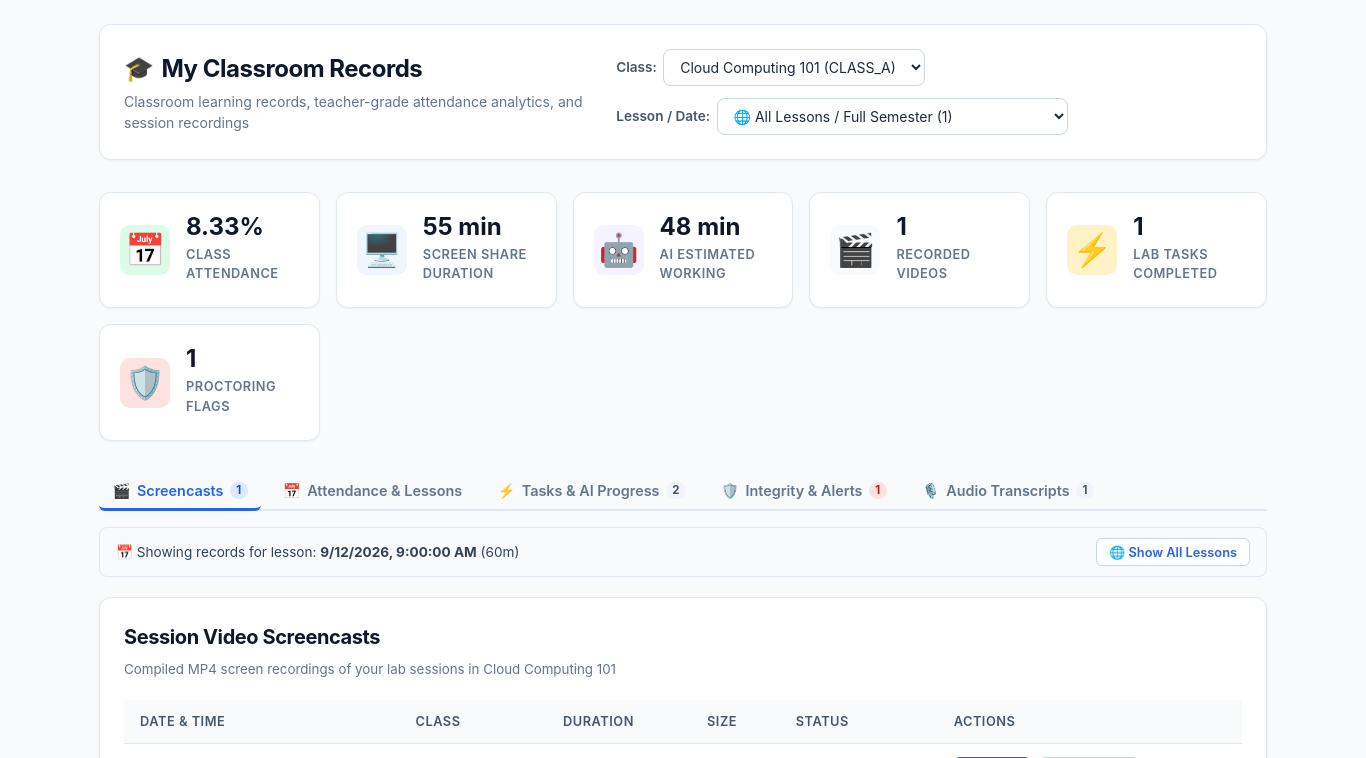
Test: StudentRecordsView Component › toggles between Per Lesson Breakdown and All Lessons Summary in Attendance tab
Click the tab "📅 Attendance & Lessons" at (372, 492), box 269,473 -> 476,511
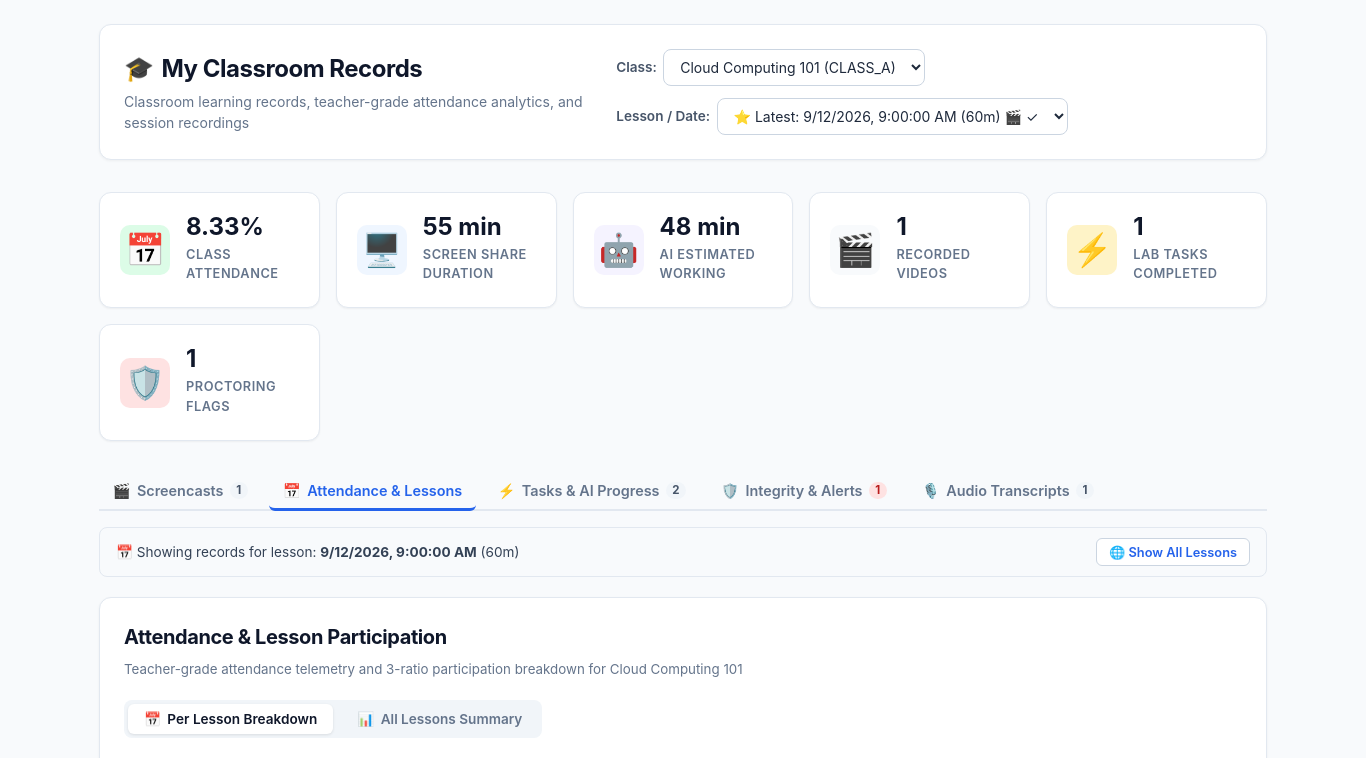
Expected: the button "📅 Per Lesson Breakdown" is shown, 128,704 -> 333,734
Expected: the button "📊 All Lessons Summary" is shown
# Switch to All Lessons Summary view
Click the button "📊 All Lessons Summary" at (440, 719), box 341,704 -> 538,734
(page scrolled)
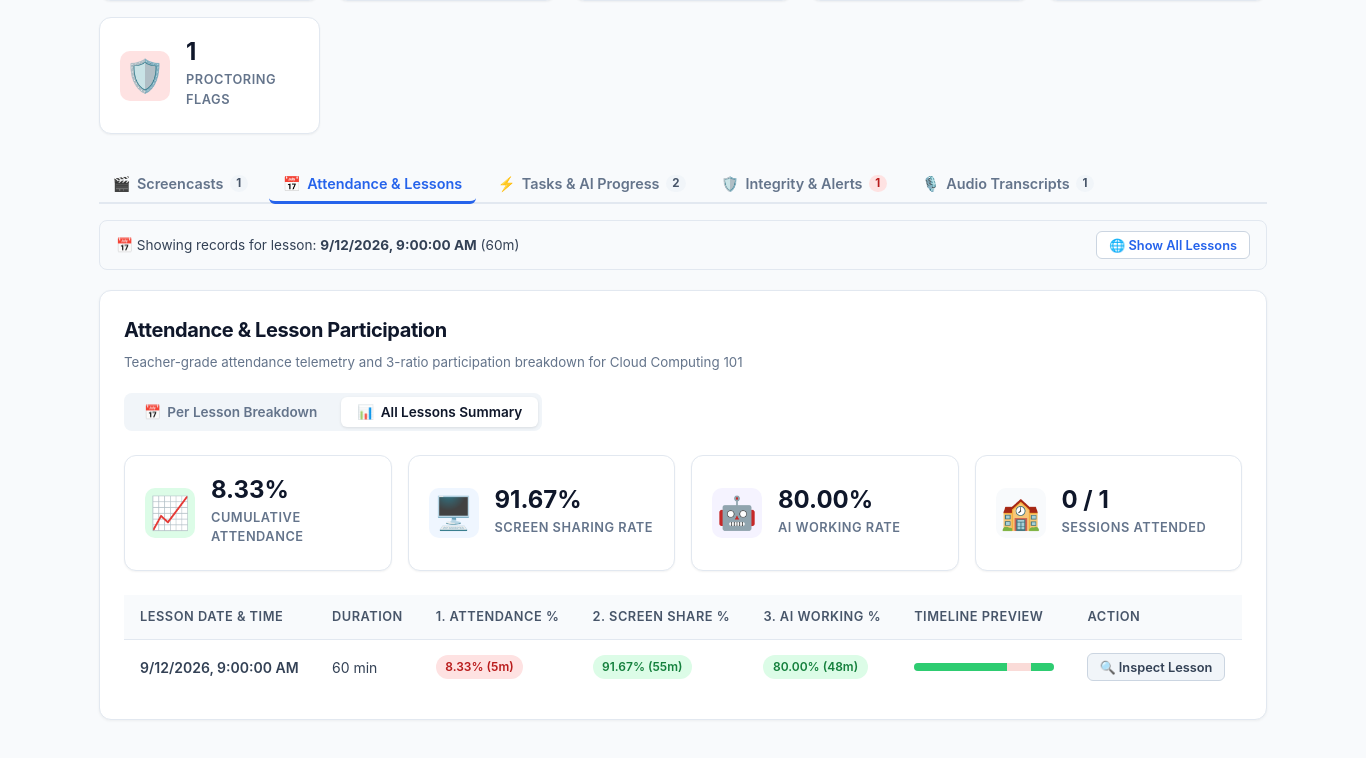
Expected: the text "Cumulative Attendance" is shown, 211,510 -> 304,544
Expected: the text "Screen Sharing Rate" is shown, 494,518 -> 653,537
Expected: the text "AI Working Rate" is shown, 778,518 -> 901,537
# Click Inspect Lesson to switch back to Per Lesson view
Click the button "🔍 Inspect Lesson" at (1156, 667), box 1087,653 -> 1225,681
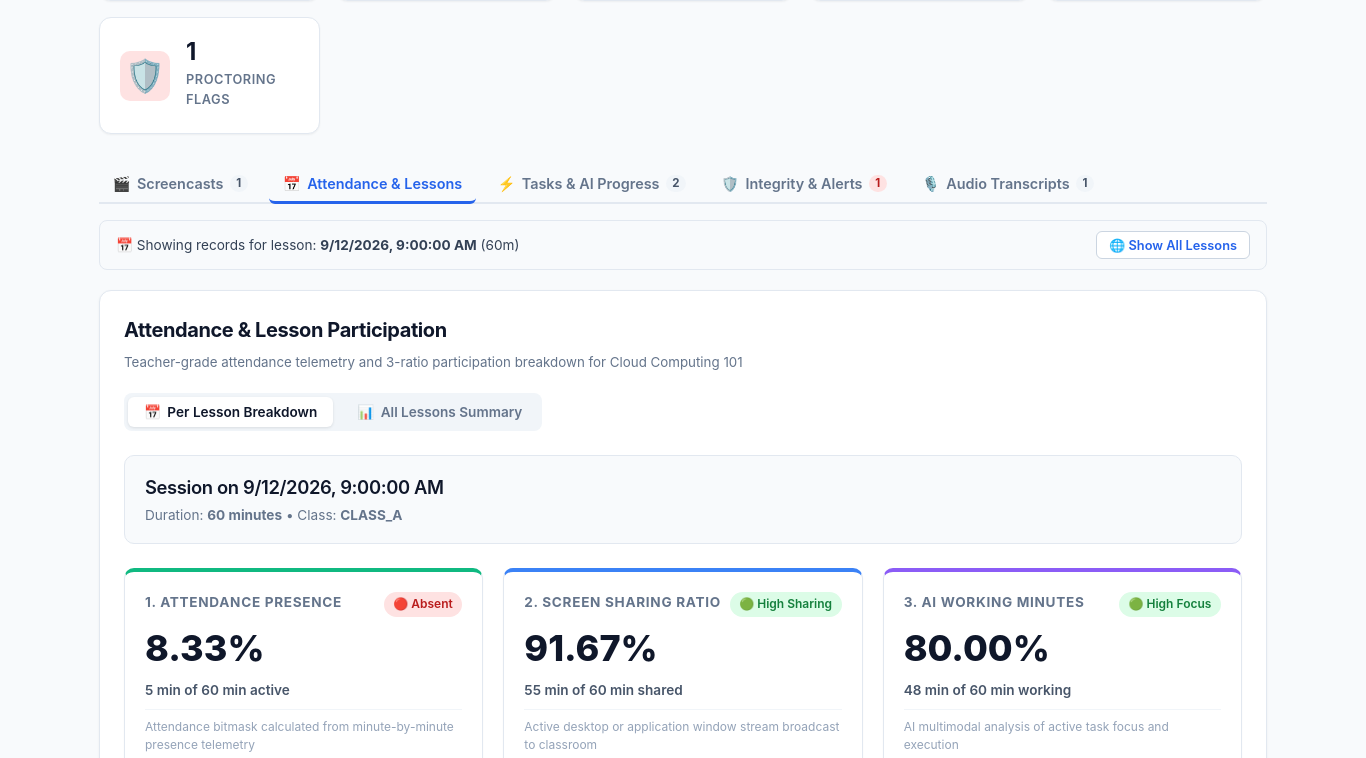
Expected: the heading "1. Attendance Presence" is shown, 145,592 -> 342,613
